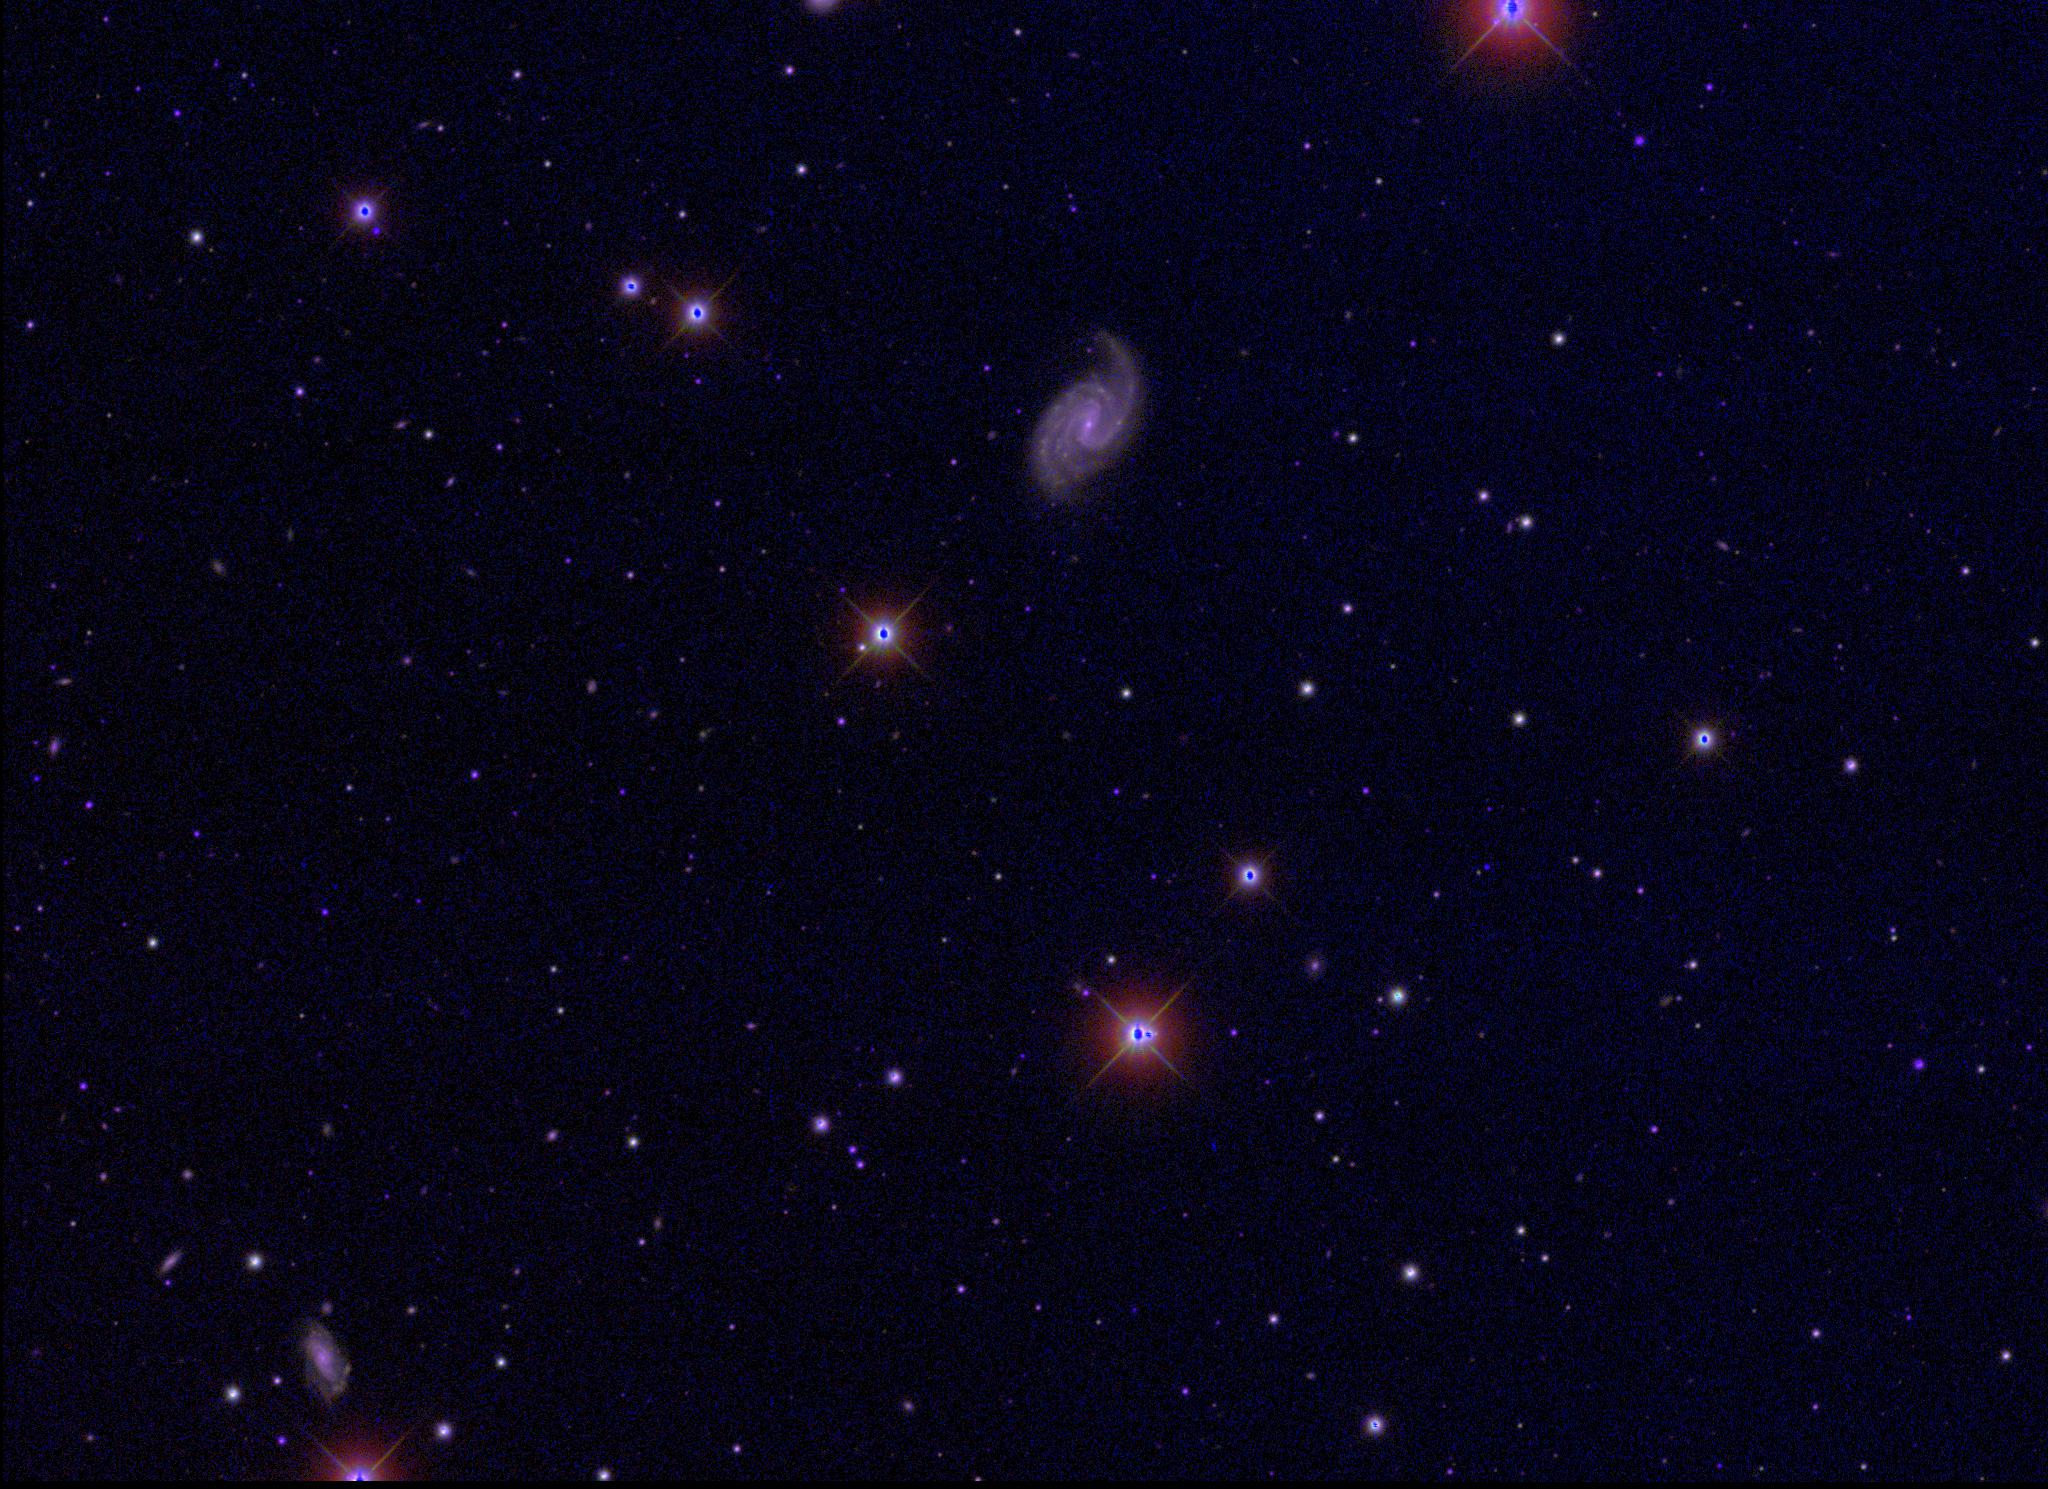L: (1479, 861, 1491, 873)
